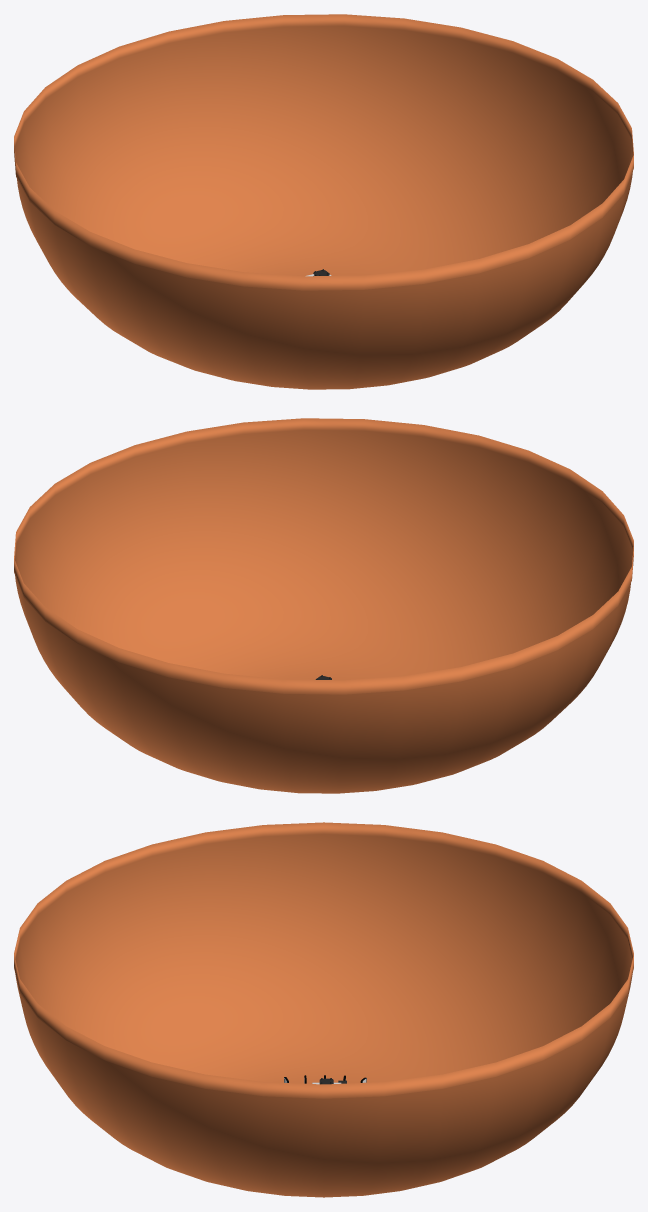
The model's file is toastbar.glb.
3 renders of one model, top to bottom at view 1: azimuth 30°, elevation 25°; view 2: azimuth 150°, elevation 25°; view 3: azimuth 270°, elevation 25°, orthographic.
Visible parts, largest first — view 1: EX_Circle; view 2: EX_Circle; view 3: EX_Circle.
Part boxes in pixels (<box>): EX_Circle: <box>14,14,633,389</box>; EX_Circle: <box>14,418,633,793</box>; EX_Circle: <box>14,822,633,1197</box>.
Size of the model in its own units: 41.08 by 13.07 by 41.08.
